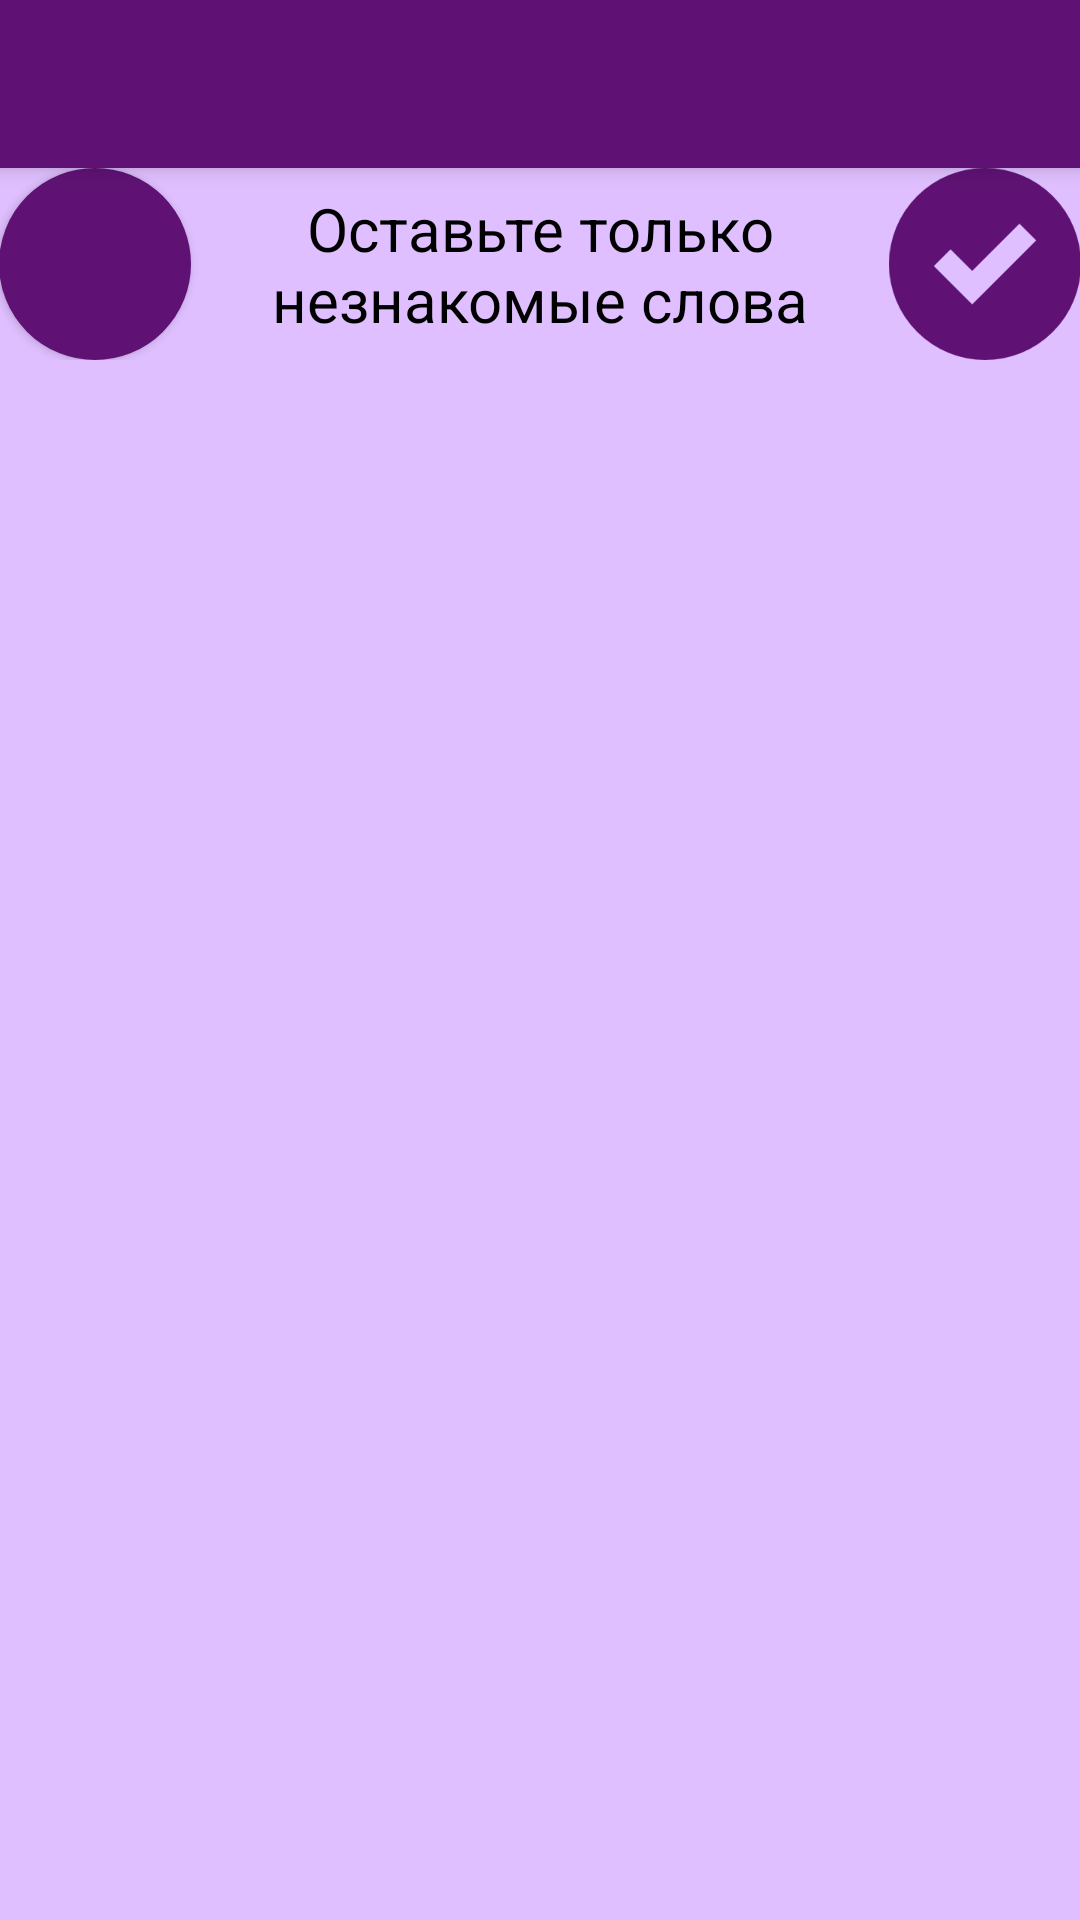

Screen size 1080w x 1920h. Icon name, then its center in pixels as (x=x, y=y):
check mark: (x=984, y=264)
